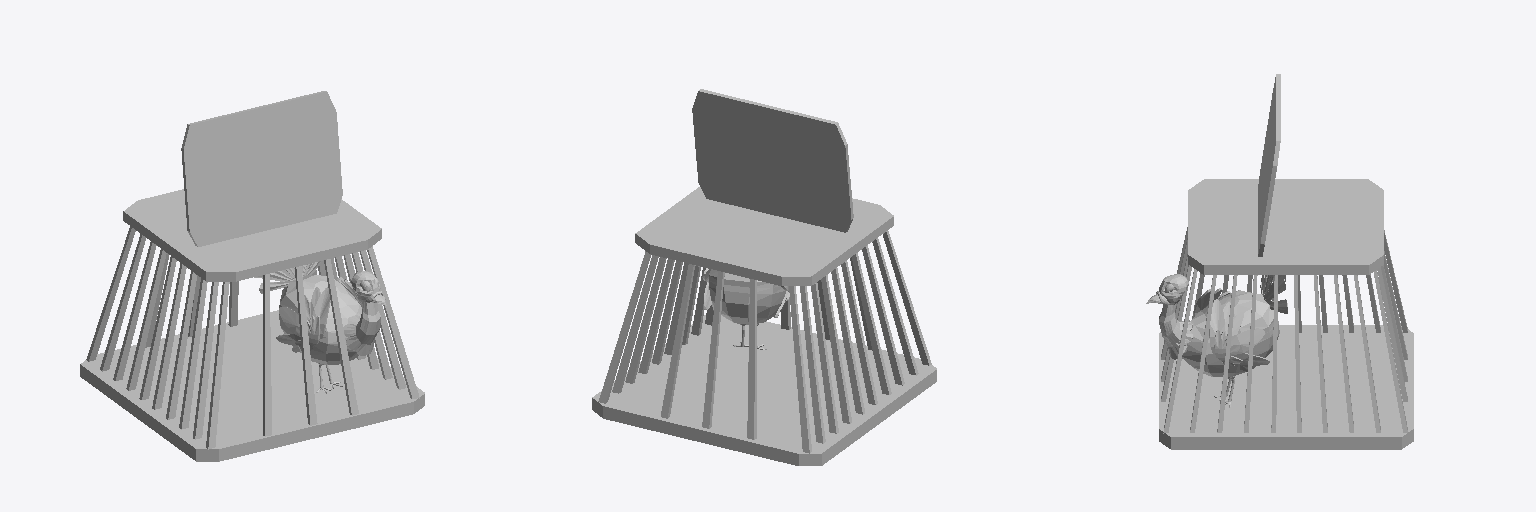
The model's file is cage.obj.
3 renders of one model, left to right at view 1: azimuth 30°, elevation 25°; view 2: azimuth 150°, elevation 25°; view 3: azimuth 270°, elevation 25°, orthographic.
Parts seen in each view (by area): view 1: sphere_smooth_pCylinder48; view 2: sphere_smooth_pCylinder48; view 3: sphere_smooth_pCylinder48.
Boxes of the visible parts, x1,y1,x2,y2 form: sphere_smooth_pCylinder48: [80, 91, 424, 461]; sphere_smooth_pCylinder48: [592, 89, 936, 465]; sphere_smooth_pCylinder48: [1146, 74, 1413, 449].
Size of the model in its own units: 1.29 by 1.6 by 1.31.